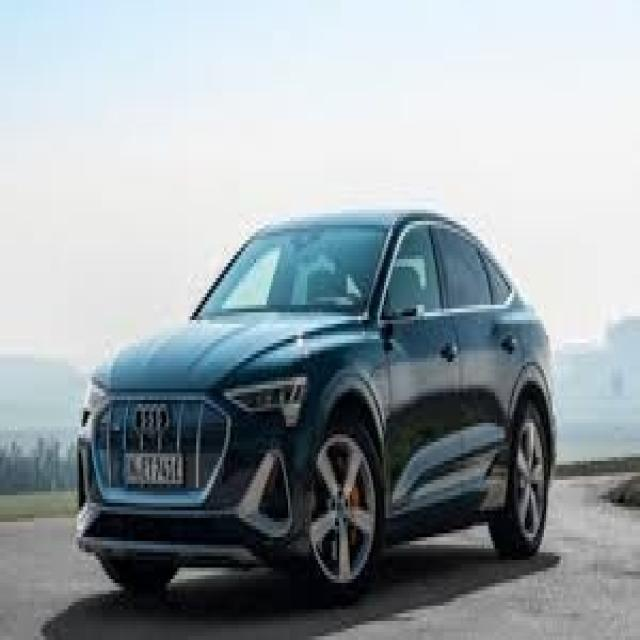black: (72, 211, 554, 589)
